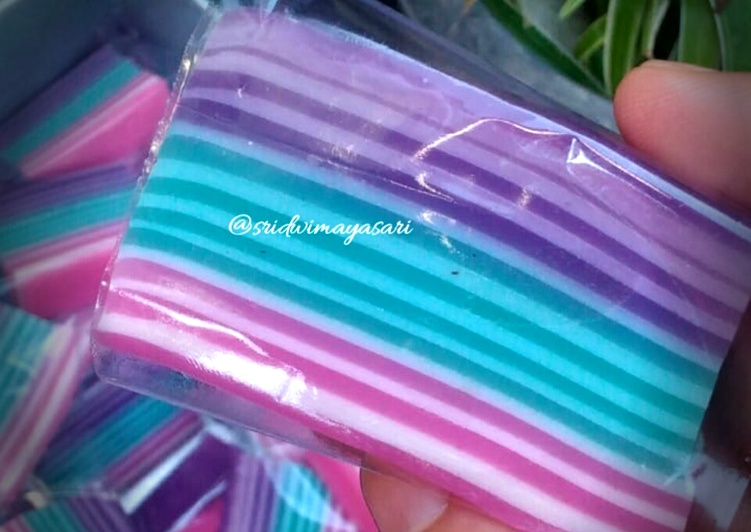kue_lapis_pelangi: (92, 7, 750, 531)
